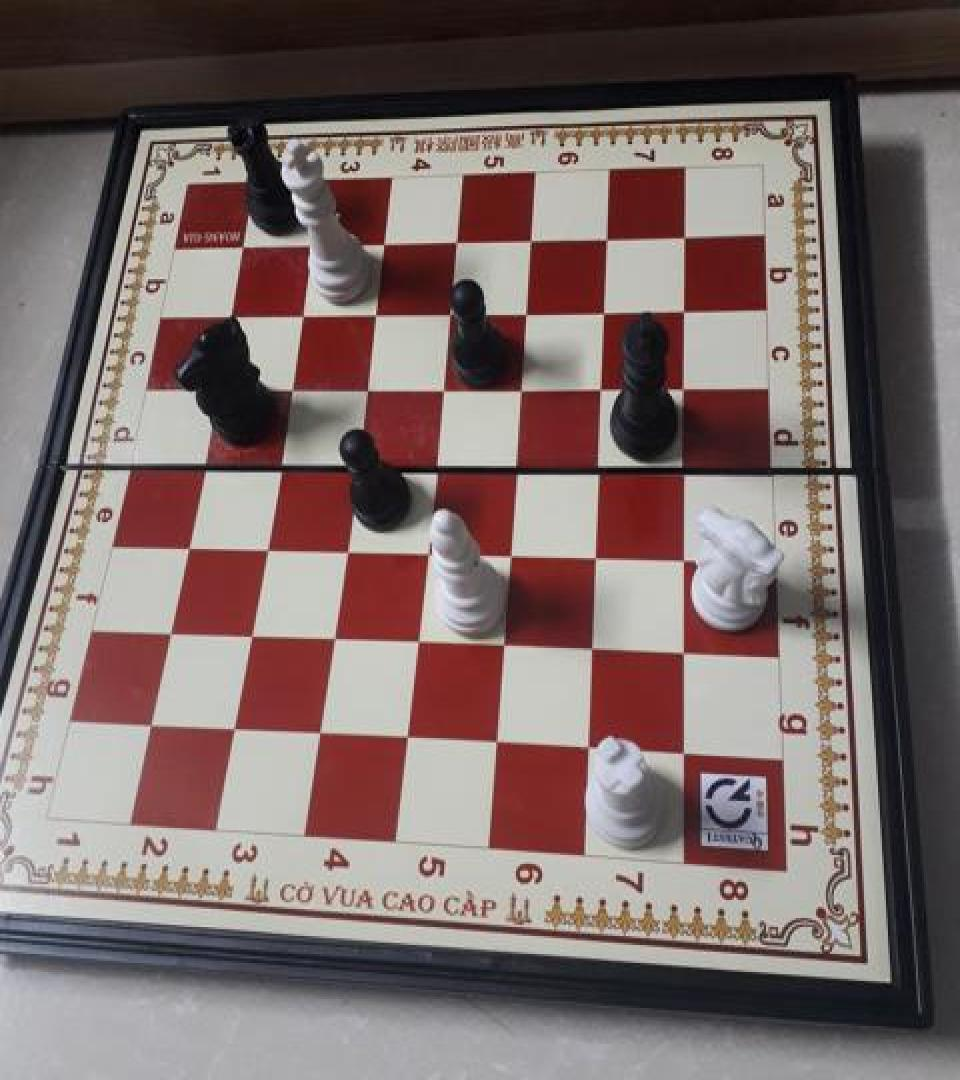xcorner: (589, 221, 619, 256), (667, 219, 697, 253), (513, 224, 543, 258), (438, 225, 468, 259), (366, 227, 396, 261), (294, 228, 324, 262), (224, 230, 254, 264), (508, 294, 538, 328), (432, 294, 462, 328), (357, 296, 387, 330), (283, 297, 313, 331), (212, 298, 242, 332), (667, 369, 697, 403), (584, 369, 614, 403), (504, 370, 534, 404), (425, 370, 455, 404), (347, 370, 377, 404), (272, 370, 302, 404), (198, 370, 228, 404), (667, 451, 697, 485), (582, 451, 612, 485), (499, 450, 529, 484), (417, 449, 447, 483), (184, 446, 214, 480), (668, 539, 698, 573), (579, 538, 609, 572), (493, 536, 523, 570), (409, 533, 439, 567), (327, 532, 357, 566), (247, 530, 277, 564), (169, 528, 199, 562), (668, 633, 698, 667), (576, 630, 606, 664), (487, 626, 517, 660), (400, 623, 430, 657), (316, 621, 346, 655), (233, 618, 263, 652), (153, 615, 183, 649), (668, 734, 698, 768), (573, 729, 603, 763), (391, 720, 421, 754), (218, 712, 248, 746), (667, 293, 697, 326), (587, 294, 617, 327), (338, 448, 368, 481), (260, 448, 290, 481), (481, 725, 511, 758), (304, 716, 334, 749), (135, 708, 165, 741)
